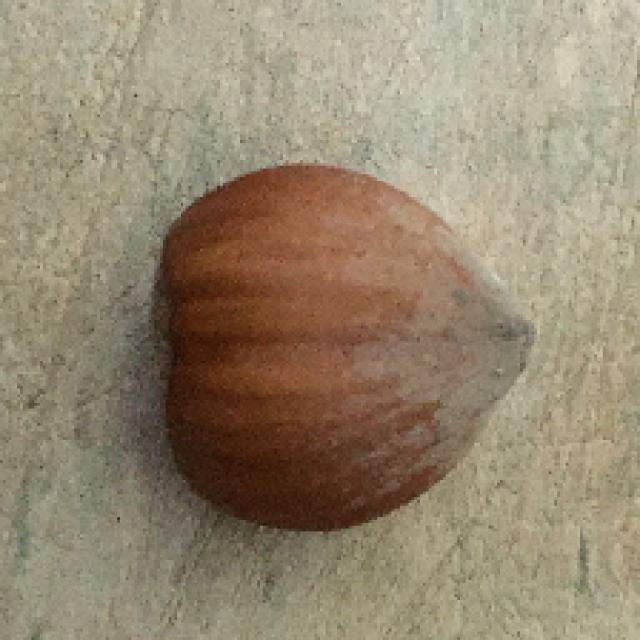qualityHazelnut: (141, 163, 533, 536)
